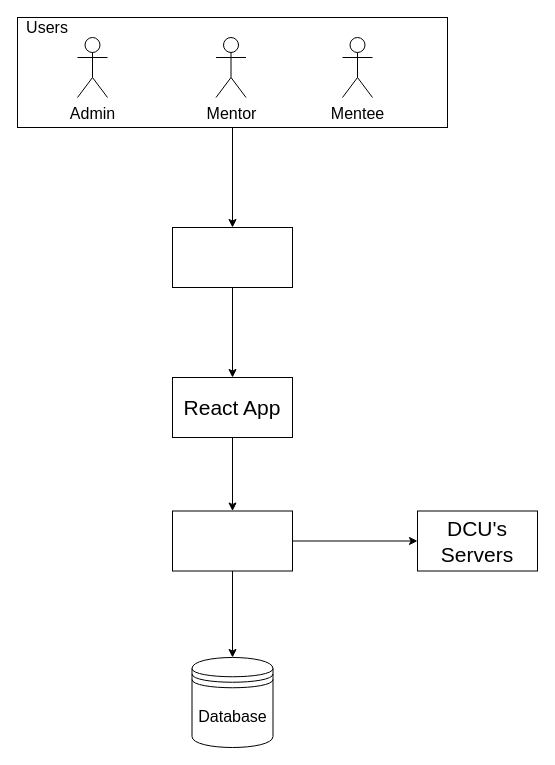
Image size: 555x765. Some labels were removed from this diagram. Each missing label, with the centre of its shape:
API: point (232, 540)
Browser: point (232, 257)
